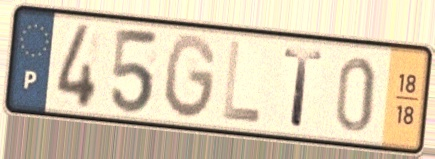0: (332, 54, 382, 134)
4: (54, 21, 100, 111)
5: (107, 25, 161, 117)
G: (162, 31, 219, 123)
L: (219, 37, 264, 126)
T: (281, 45, 326, 131)
